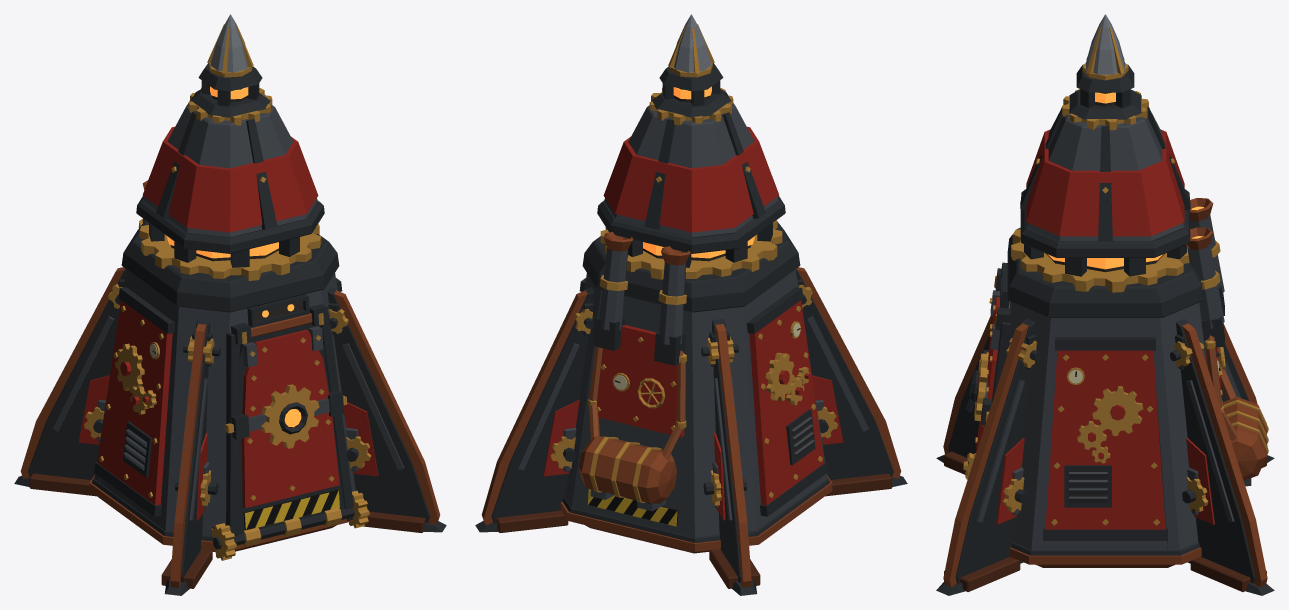
The model's file is cog_drop_pod.fbx.
3 views of the same model, side by side, from view 1: azimuth 30°, elevation 25°; view 2: azimuth 150°, elevation 25°; view 3: azimuth 270°, elevation 25° (orthographic). The views are drawn at different scales.
Parts seen in each view (by area): view 1: Body, Door, Glow; view 2: Body, Glow; view 3: Body, Door, Glow.
Boxes of the visible parts, x1,y1,x2,y2 form: Body: [14, 14, 446, 595]; Door: [225, 313, 354, 546]; Glow: [166, 86, 294, 317]; Body: [475, 14, 907, 595]; Glow: [643, 86, 755, 258]; Body: [936, 14, 1274, 595]; Door: [969, 290, 1009, 451]; Glow: [1047, 92, 1203, 269].
Size of the model in its own units: 8.23 by 13.68 by 8.23.
4 materials, 2 textured.
